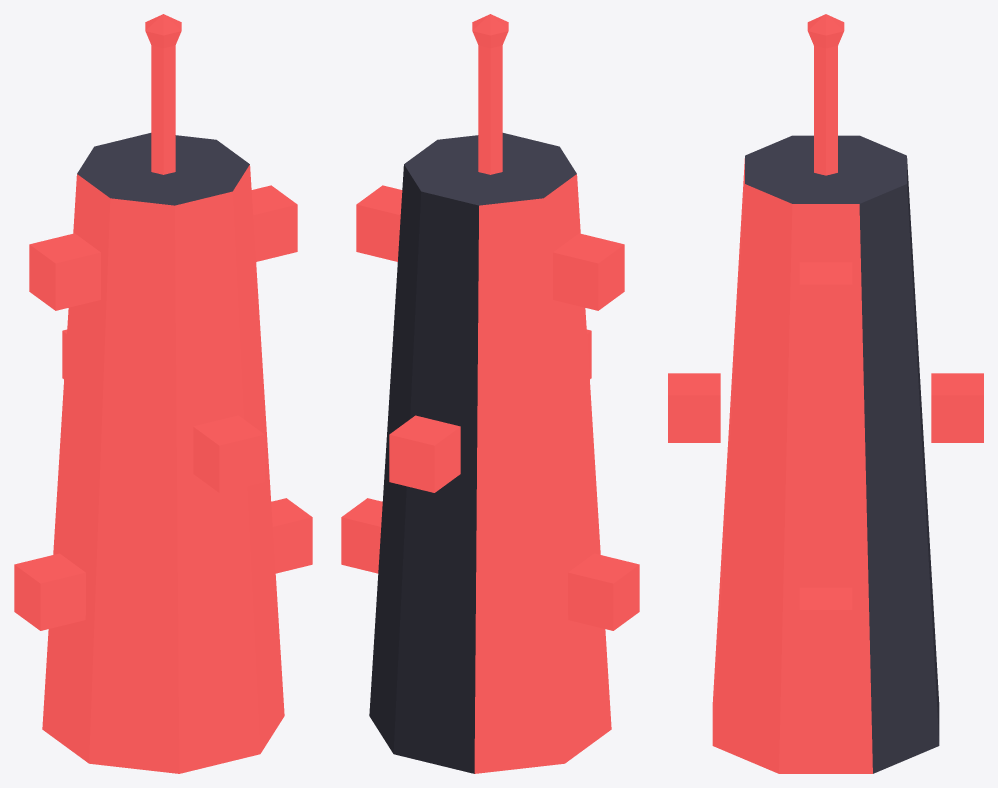
File: prop_grid_anchor.glb
3 views of the same model, side by side, from view 1: azimuth 30°, elevation 25°; view 2: azimuth 150°, elevation 25°; view 3: azimuth 270°, elevation 25° (orthographic).
Parts seen in each view (by area): view 1: prop_grid_anchor; view 2: prop_grid_anchor; view 3: prop_grid_anchor.
Boxes of the visible parts, x1,y1,x2,y2 form: prop_grid_anchor: [14, 14, 312, 773]; prop_grid_anchor: [341, 14, 639, 773]; prop_grid_anchor: [668, 14, 983, 773].
Bounding box in the file's own units: 1.8 × 4.48 × 1.8.
